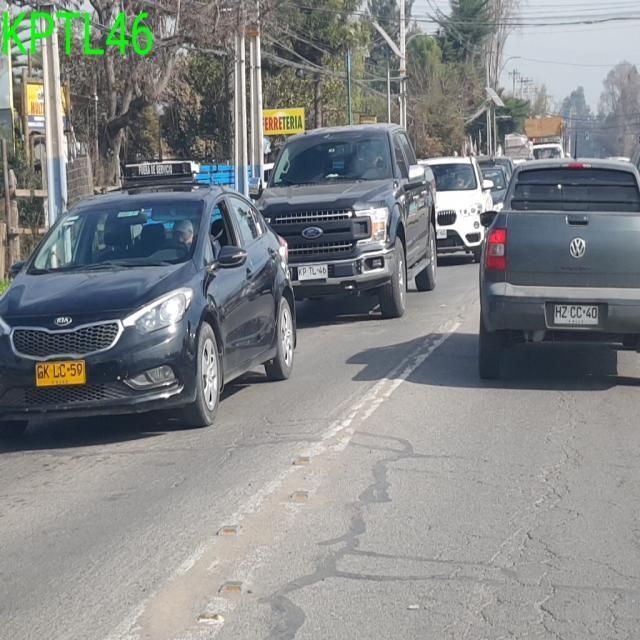Ad-signs: (262, 106, 305, 135)
Car: (0, 165, 298, 437), (250, 121, 438, 318)
Pickup: (476, 155, 639, 381)
